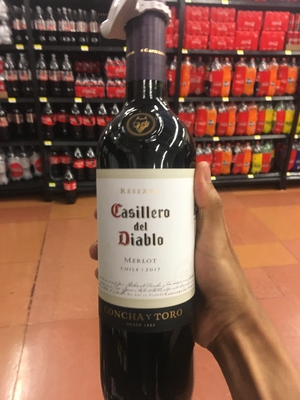casillero del diablo merlot: (85, 24, 210, 400)
